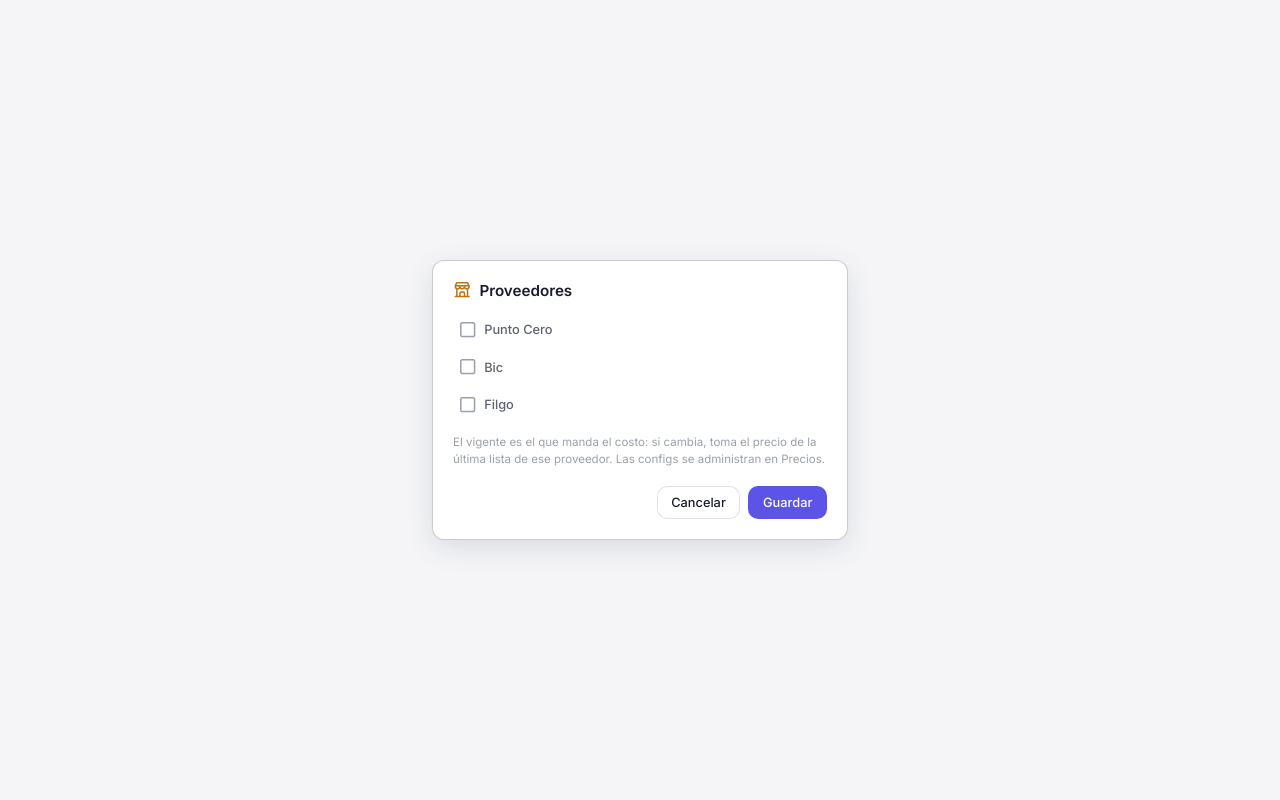
Test case: ProductSupplierDialogComponent › la lista es de checkboxes: el tilde se ve y el click lo cambia
Click the checkbox labelled "Bic" at (468, 367), box [459, 355, 821, 380]
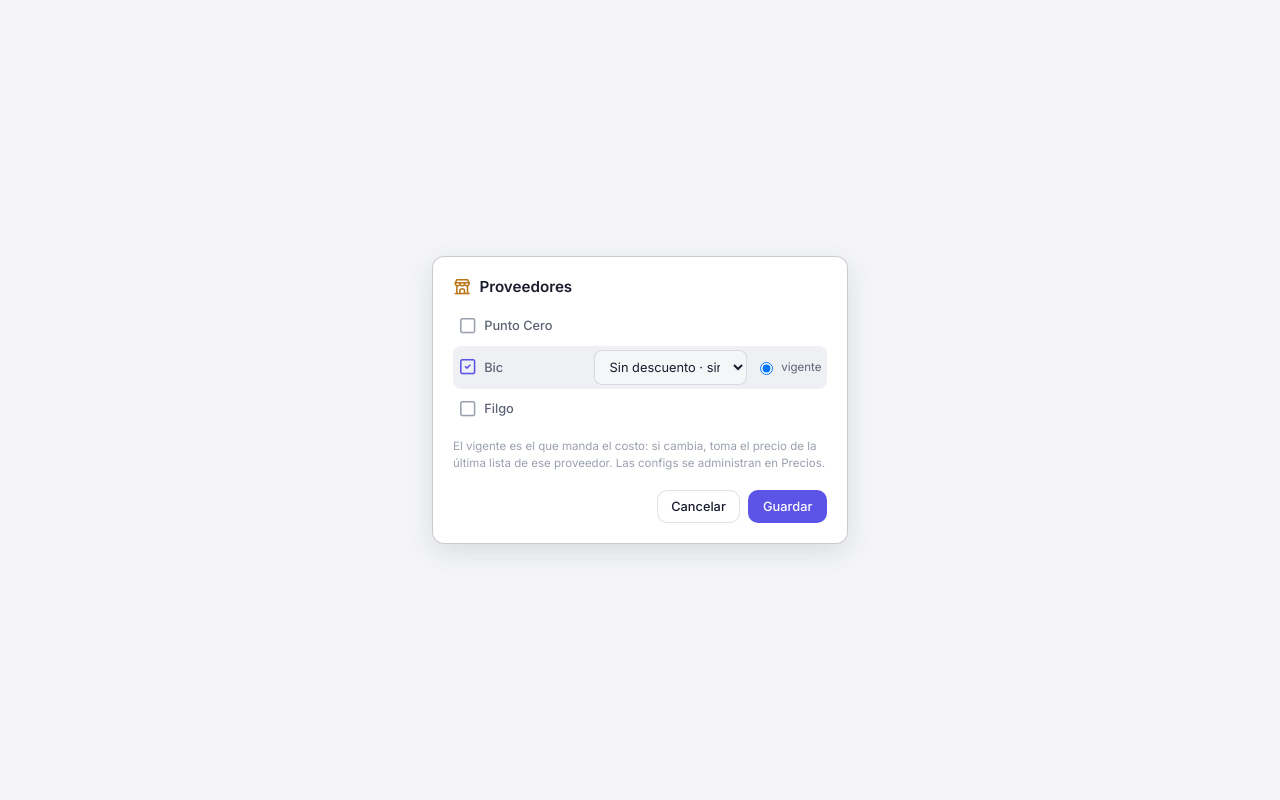
Expected: the number of dropdowns is 1, [594, 350, 747, 385]
Expected: the radio button labelled "vigente" is shown, [760, 362, 773, 375]
